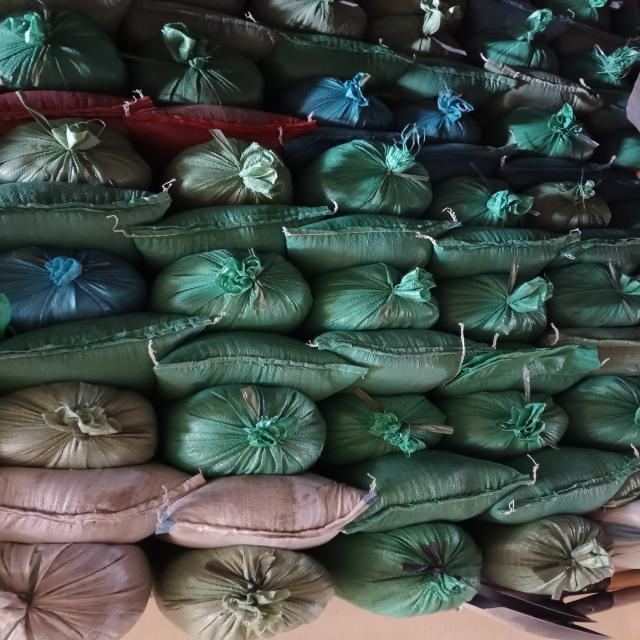Bistay sand: (156, 560, 338, 634), (172, 392, 330, 476), (1, 387, 159, 471), (157, 480, 356, 546), (1, 469, 147, 545), (1, 120, 157, 190), (12, 317, 200, 373), (164, 344, 352, 400), (302, 341, 490, 397), (321, 125, 439, 211), (4, 189, 164, 251), (501, 527, 623, 604), (358, 531, 480, 608), (165, 257, 309, 322), (2, 564, 124, 640), (361, 465, 500, 529), (502, 460, 640, 524), (3, 258, 134, 324), (1, 18, 119, 90), (151, 39, 260, 107), (152, 202, 298, 252), (293, 215, 439, 265), (423, 223, 569, 273), (445, 396, 561, 458), (333, 398, 449, 460), (136, 10, 282, 59), (311, 275, 435, 329), (182, 139, 296, 197), (461, 353, 597, 399), (149, 113, 306, 145), (547, 271, 639, 325), (460, 276, 552, 330), (443, 175, 534, 229), (274, 46, 402, 84), (484, 21, 562, 83), (508, 112, 598, 162), (404, 98, 494, 148), (307, 79, 397, 129), (570, 385, 640, 449), (1, 92, 144, 121), (539, 181, 612, 233), (392, 8, 464, 60), (573, 49, 638, 97), (564, 323, 640, 361), (570, 230, 640, 270), (287, 2, 357, 42), (604, 126, 640, 169), (551, 1, 614, 19)
